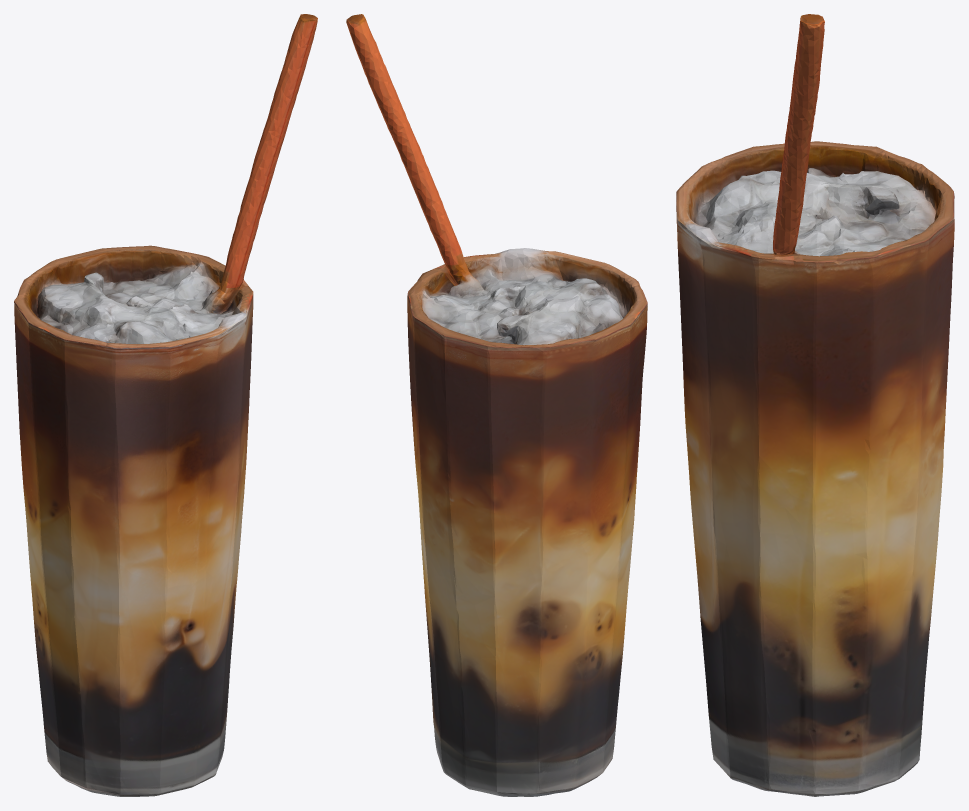
Rendered from ice_americano.fbx.
3 renders of one model, left to right at view 1: azimuth 30°, elevation 25°; view 2: azimuth 150°, elevation 25°; view 3: azimuth 270°, elevation 25°, orthographic. The views are drawn at different scales.
Parts seen in each view (by area): view 1: temp; view 2: temp; view 3: temp.
Boxes of the visible parts, box(x1,y1,x2,y2) form: temp: box(14, 14, 317, 796); temp: box(346, 14, 647, 796); temp: box(676, 14, 954, 796).
Size of the model in its own units: 53.54 by 127 by 37.99.
1 material, 1 textured.
